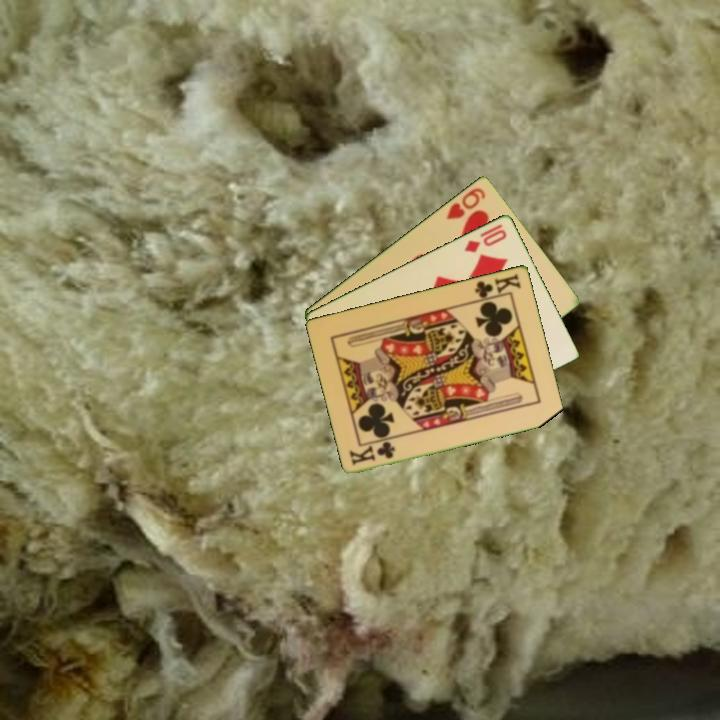10d: (461, 225, 510, 255)
6h: (442, 184, 489, 222)
Kc: (471, 269, 524, 304), (346, 438, 398, 468)
